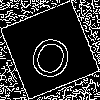O: (25, 25, 80, 83)
